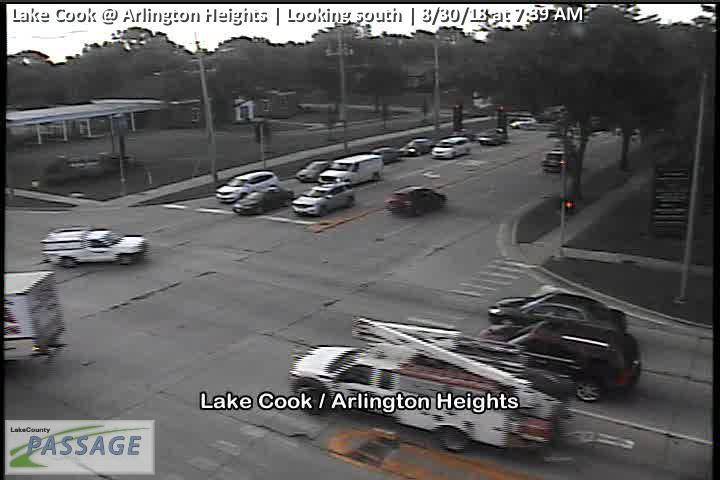SUV: (477, 318, 642, 403), (41, 224, 148, 267), (290, 177, 356, 218), (312, 154, 384, 186), (212, 170, 278, 204), (430, 135, 471, 159)
Sedan: (487, 290, 628, 339), (383, 185, 446, 217), (233, 184, 297, 214), (398, 137, 434, 155), (476, 125, 506, 145)
Truck: (287, 311, 583, 454)
